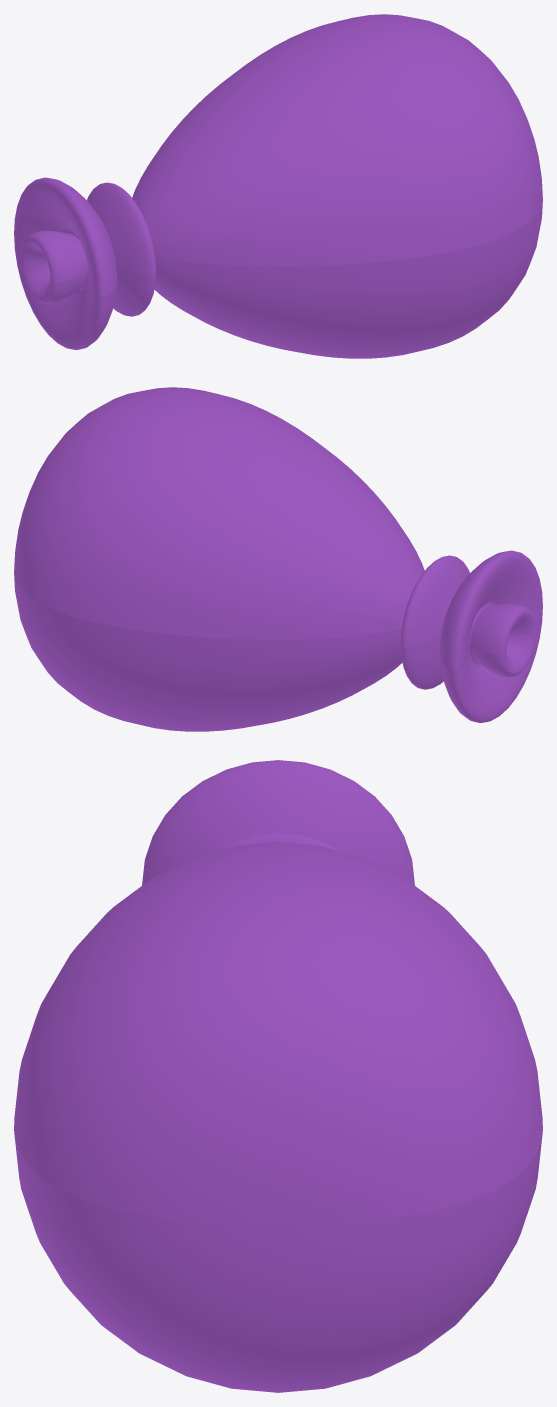
The model's file is directional_pattern_3d.glb.
3 renders of one model, top to bottom at view 1: azimuth 30°, elevation 25°; view 2: azimuth 150°, elevation 25°; view 3: azimuth 270°, elevation 25°, orthographic. The views are drawn at different scales.
Visible parts, largest first — view 1: directional_pattern_3d; view 2: directional_pattern_3d; view 3: directional_pattern_3d.
Part boxes in pixels (box(x1,y1,x2,y2)): directional_pattern_3d: box(14, 14, 542, 358); directional_pattern_3d: box(14, 387, 542, 731); directional_pattern_3d: box(14, 760, 542, 1392).
Size of the model in its own units: 0.7023 by 0.4379 by 0.4379.
